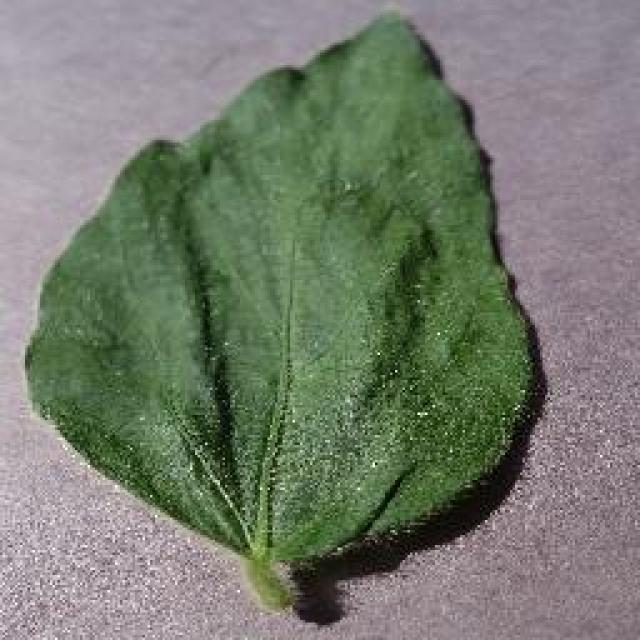Soy_healthy: (75, 86, 506, 530)
